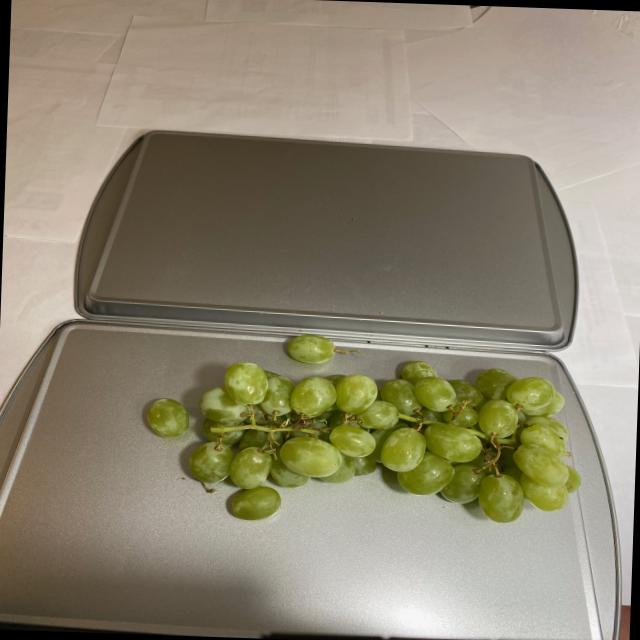grapes: (140, 333, 578, 530)
